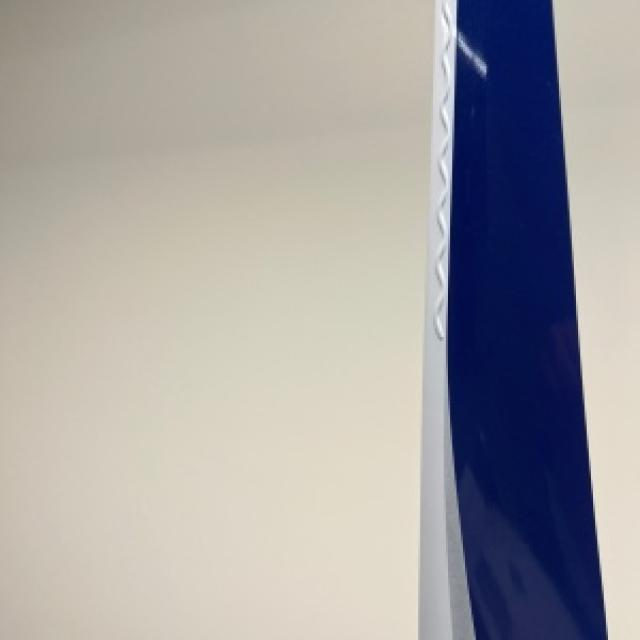healthy: (420, 0, 606, 638)
